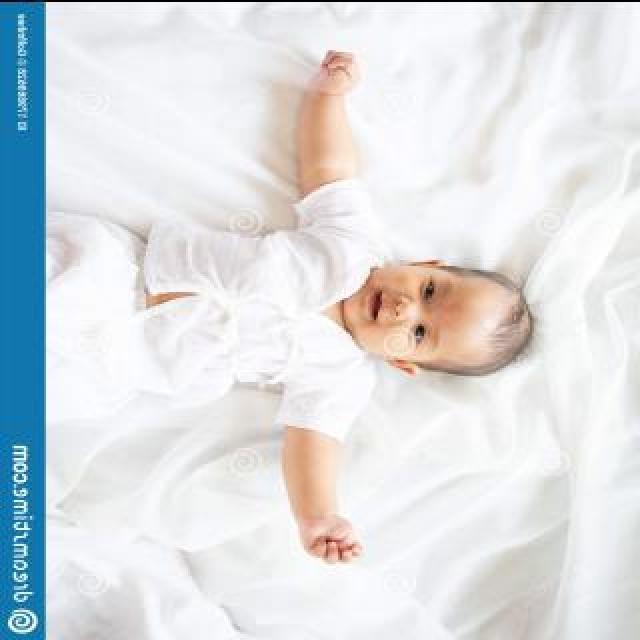baby: (56, 49, 532, 565)
